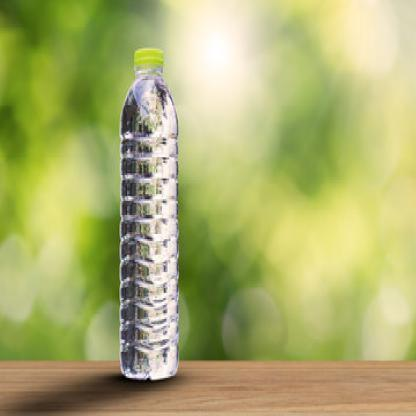plastic_bottle: (117, 47, 185, 384)
